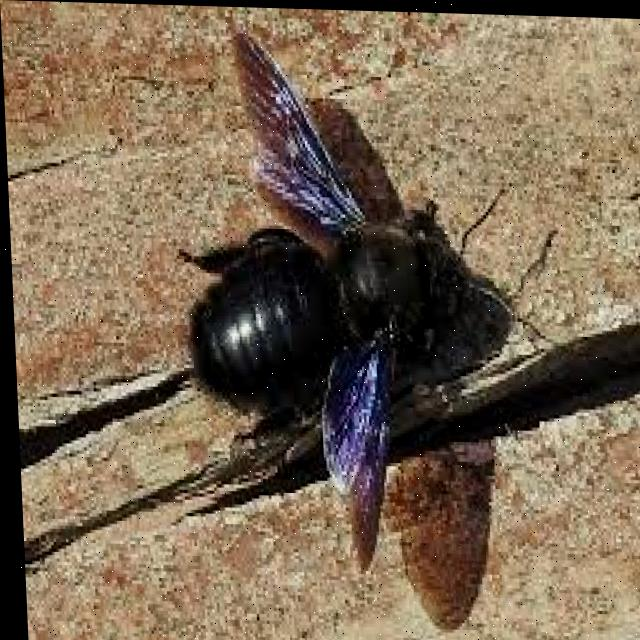Xylocopa: (176, 18, 513, 533)
